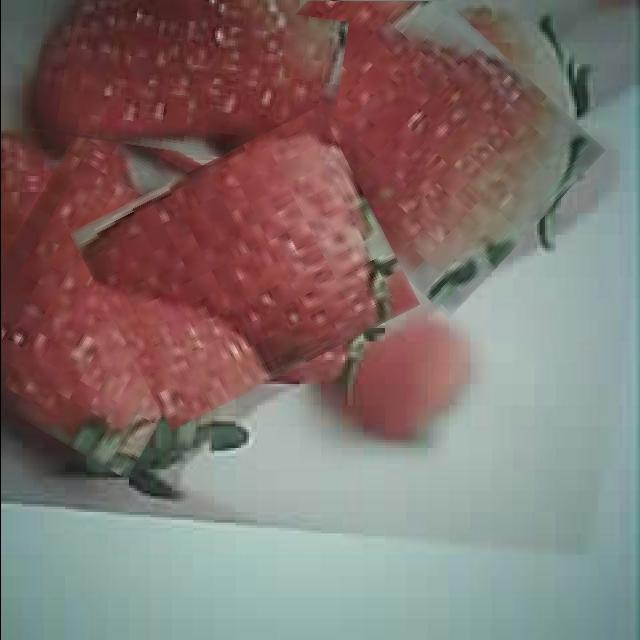strawberry: (233, 0, 588, 279), (86, 132, 402, 406), (0, 120, 250, 463), (33, 0, 344, 162)
